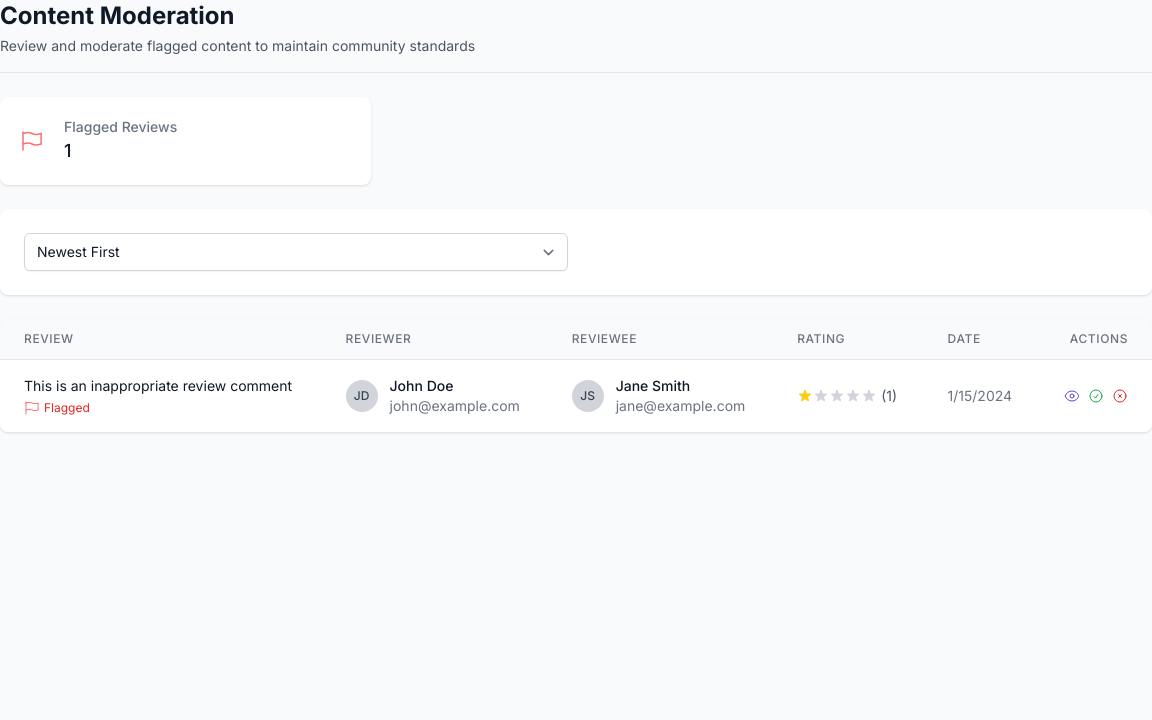
Scenario: ContentModeration › review details modal allows moderation action selection
// Open modal
Click the button titled "View Details": point(1072, 396) left=1064, top=388, right=1080, bottom=404
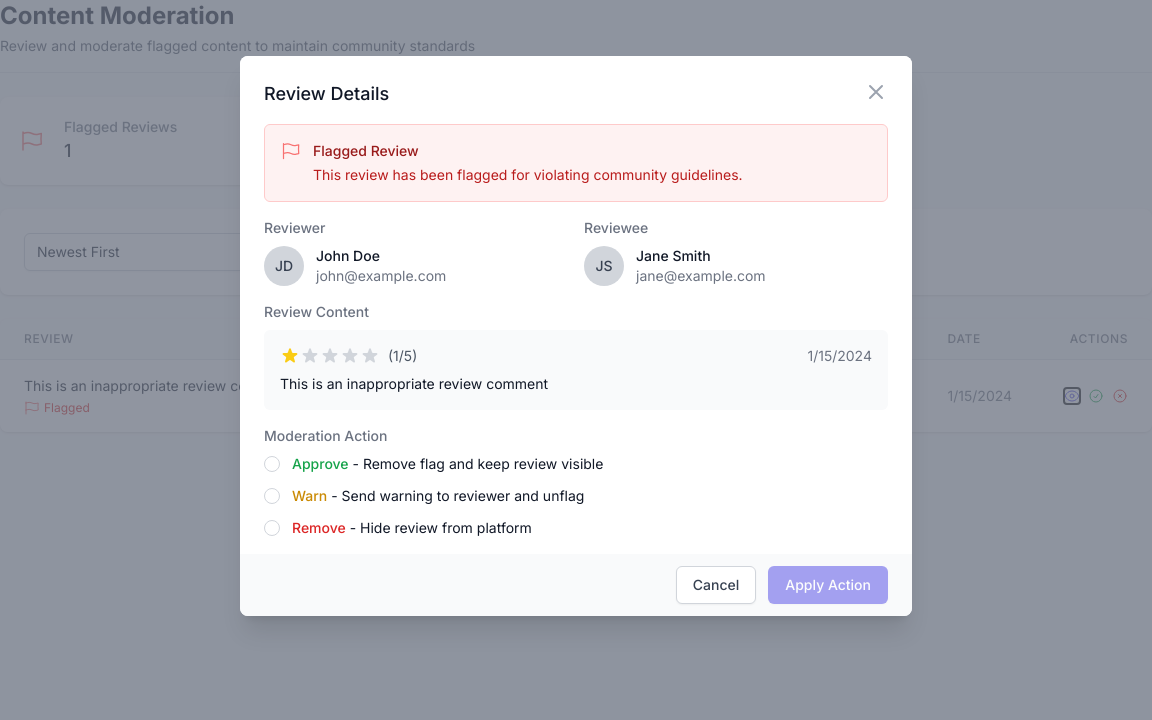
Result: the heading "Moderation Action" is shown at left=264, top=427, right=387, bottom=444
// Select approve action
Click the radio button labelled "Approve - Remove flag and keep review visible": point(272, 464) left=264, top=456, right=280, bottom=472
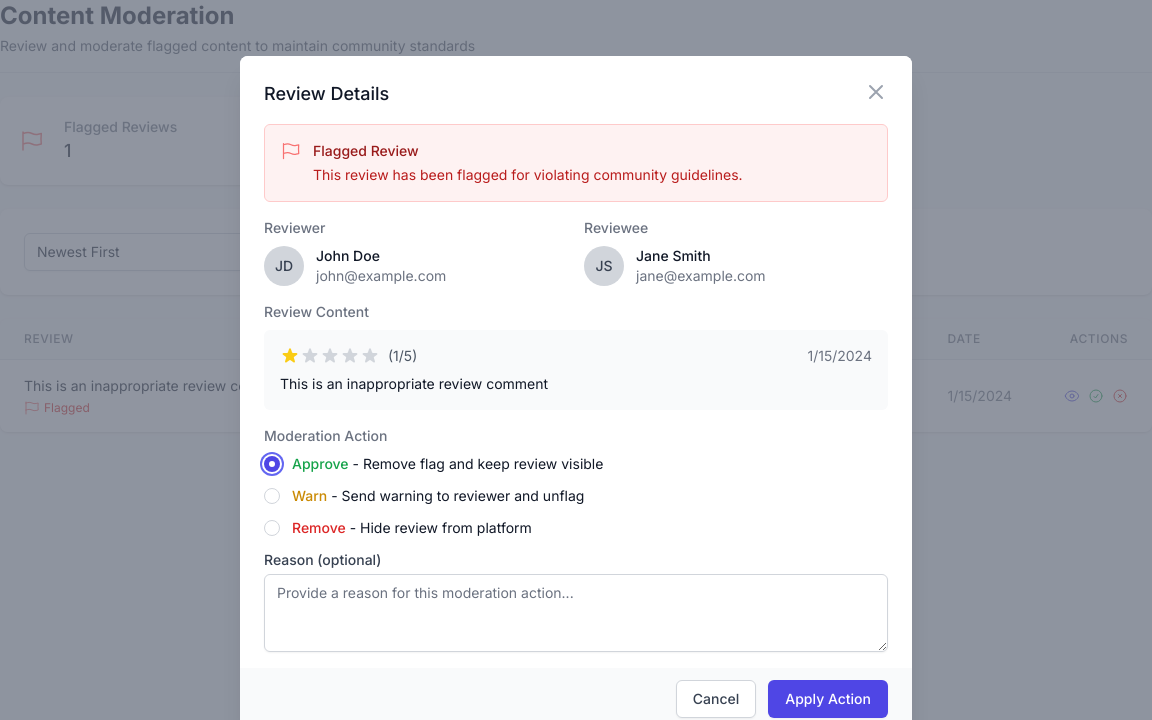
Result: the radio button labelled "Approve - Remove flag and keep review visible" is checked at left=264, top=456, right=280, bottom=472
Result: the button "Apply Action" is enabled at left=768, top=680, right=888, bottom=718
